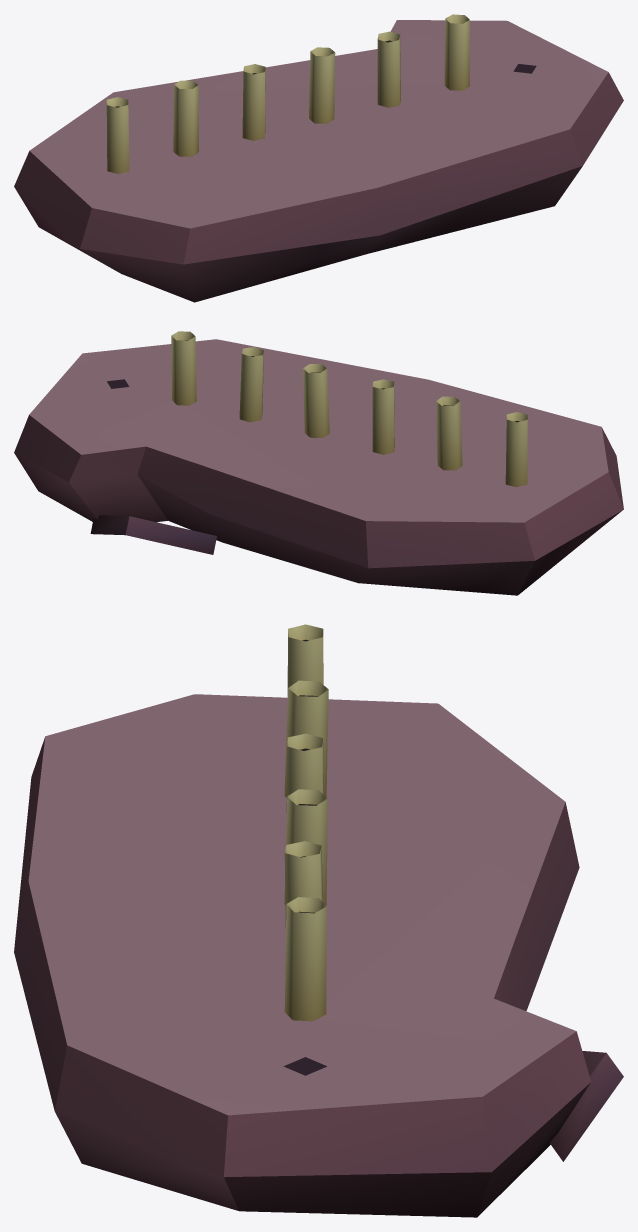
Rendered from prop_rim_stone.glb.
The picture shows the model from 3 angles, top to bottom: view 1: azimuth 30°, elevation 25°; view 2: azimuth 150°, elevation 25°; view 3: azimuth 270°, elevation 25°; orthographic projection. The views are drawn at different scales.
Parts seen in each view (by area): view 1: prop_rim_stone_mesh; view 2: prop_rim_stone_mesh; view 3: prop_rim_stone_mesh.
Boxes of the visible parts, x1,y1,x2,y2 form: prop_rim_stone_mesh: [14, 14, 623, 302]; prop_rim_stone_mesh: [14, 331, 623, 595]; prop_rim_stone_mesh: [14, 624, 623, 1217].
Bounding box in the file's own units: 0.9001 × 0.2312 × 0.5232.
